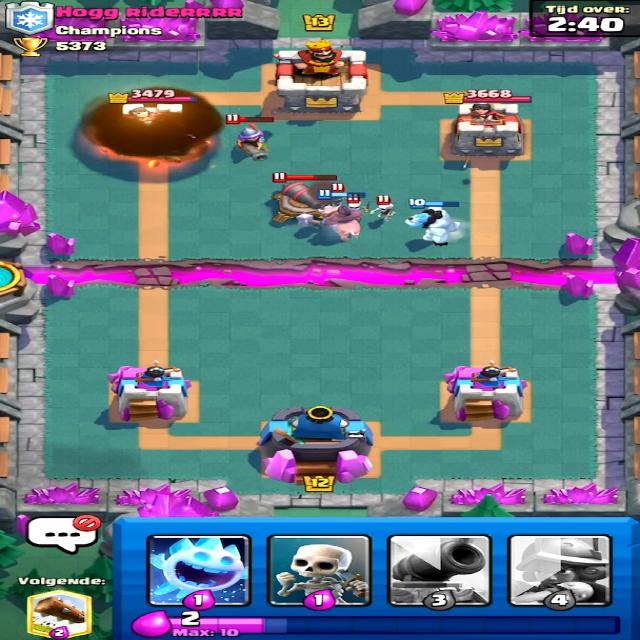Cannon_Card: (390, 537, 507, 608)
Enemy_Cannon_Troop: (264, 182, 338, 227)
Enemy_Musketeer_Troop: (222, 123, 277, 161)
Enemy_Skeleton_Troop: (370, 200, 408, 222)
Hog_Rider_Troop: (301, 202, 361, 242)
Ice_Golem_Troop: (405, 207, 463, 250)
Ice_Spirit_Card: (148, 532, 259, 608)
Musketeer_Card: (509, 538, 611, 602)
Skeleton_Card: (271, 535, 372, 604)
